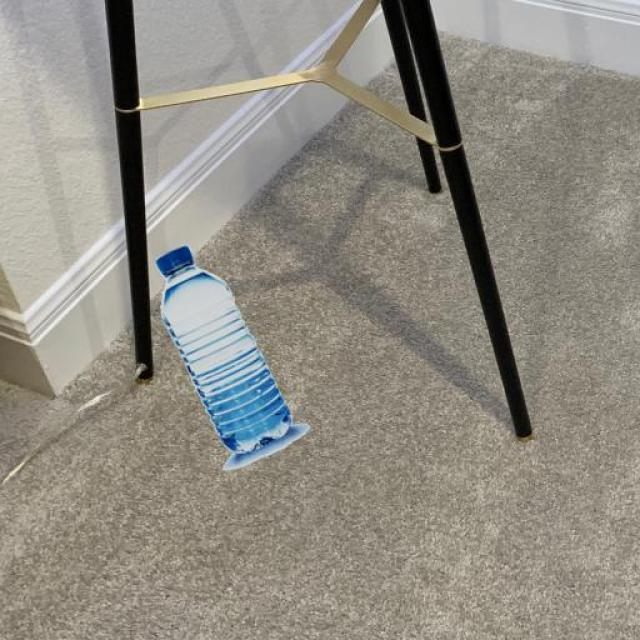bottle: (153, 238, 316, 473)
